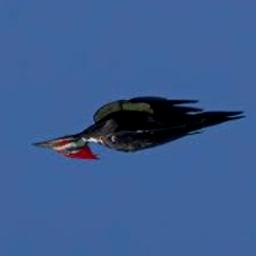Woodpecker: (32, 98, 246, 161)
